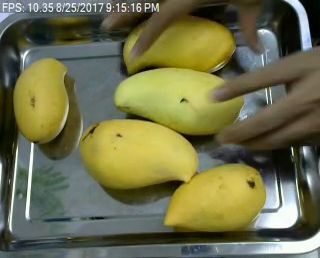Mango: (112, 66, 244, 137), (80, 119, 200, 192), (162, 163, 265, 234), (122, 20, 238, 73), (10, 55, 72, 147)
